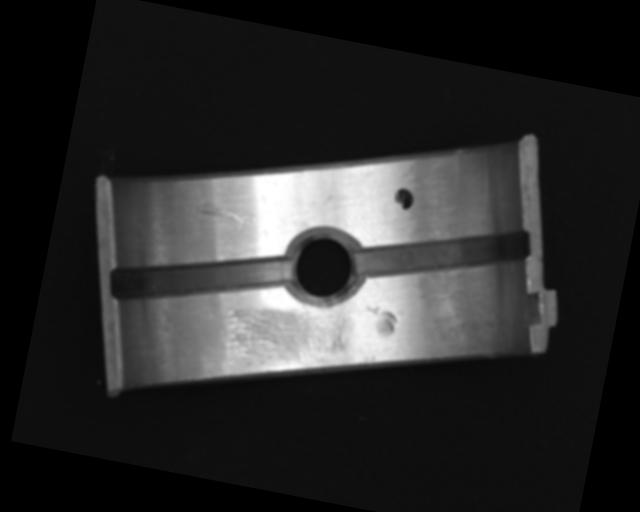blot: (391, 186, 416, 211)
bruise: (359, 303, 400, 339), (359, 352, 377, 368)
gap: (354, 198, 532, 307), (109, 227, 293, 330)
hole: (277, 220, 369, 314)
nick: (194, 199, 256, 227)
scratch: (215, 290, 359, 387)
